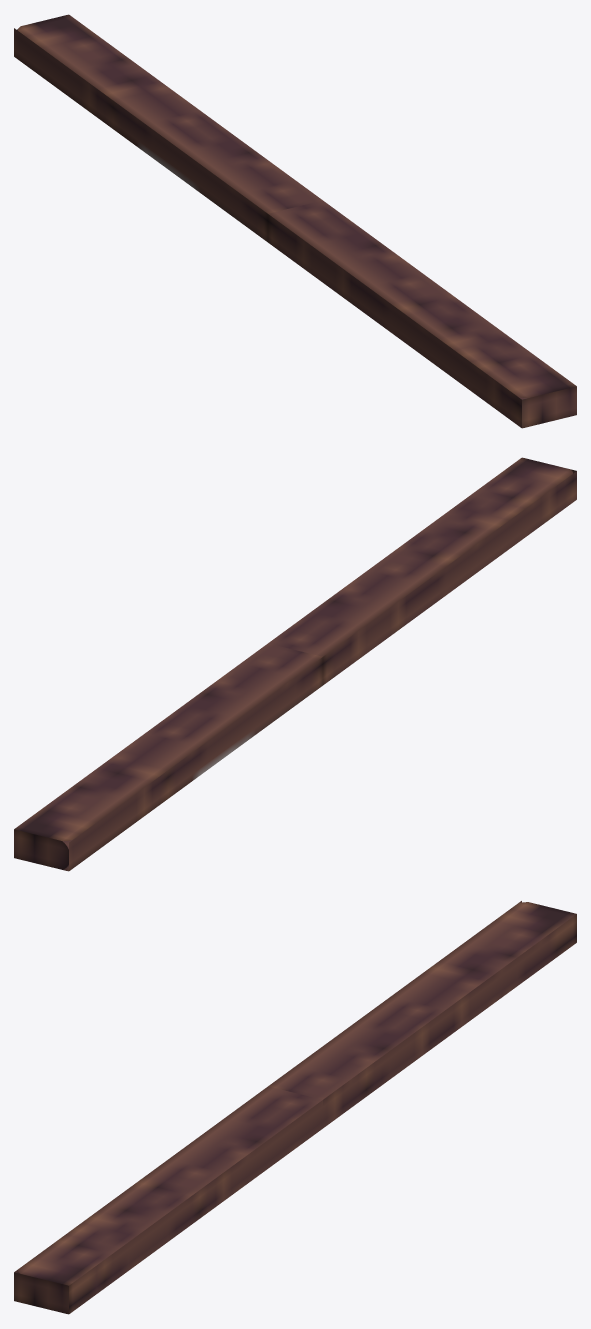
The model's file is Board_2.fbx.
The picture shows the model from 3 angles, top to bottom: view 1: azimuth 30°, elevation 25°; view 2: azimuth 150°, elevation 25°; view 3: azimuth 330°, elevation 25°; orthographic projection.
Parts seen in each view (by area): view 1: Board_2; view 2: Board_2; view 3: Board_2.
Boxes of the visible parts, left/top/right/bottom form: Board_2: left=14, top=14, right=576, bottom=428; Board_2: left=14, top=457, right=576, bottom=871; Board_2: left=14, top=901, right=576, bottom=1314.
Bounding box in the file's own units: 25 × 12.5 × 400.
1 material, 1 textured.
